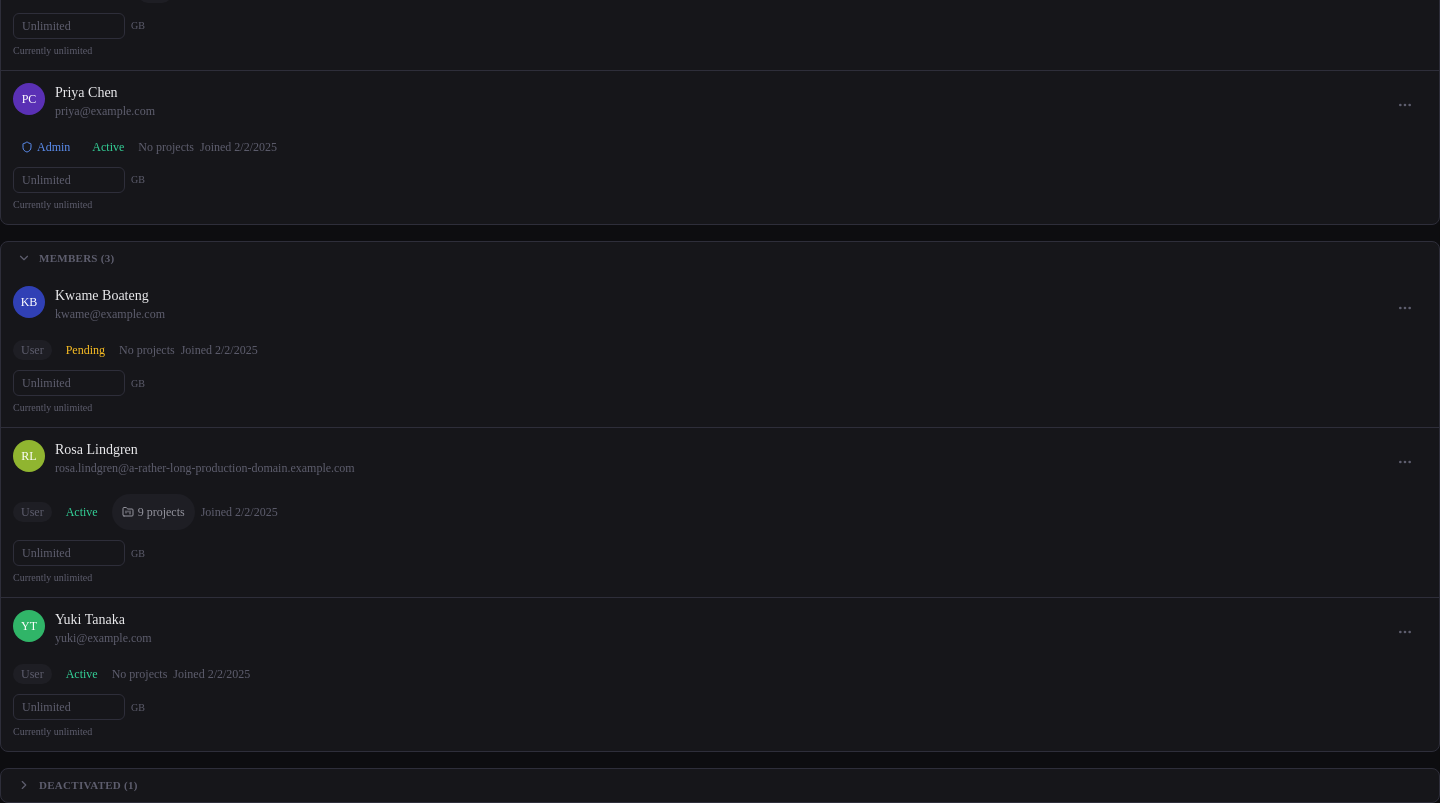
Test: every action the table row had is reachable from the card › loads the owned-project handoff when the CARD opens the dialog
(page scrolled)
Expected: the text "Rosa Lindgren" is shown, 55,442 -> 138,457
Click the button "Deactivated (1)" at (80, 785), box 17,777 -> 1423,794
(page scrolled)
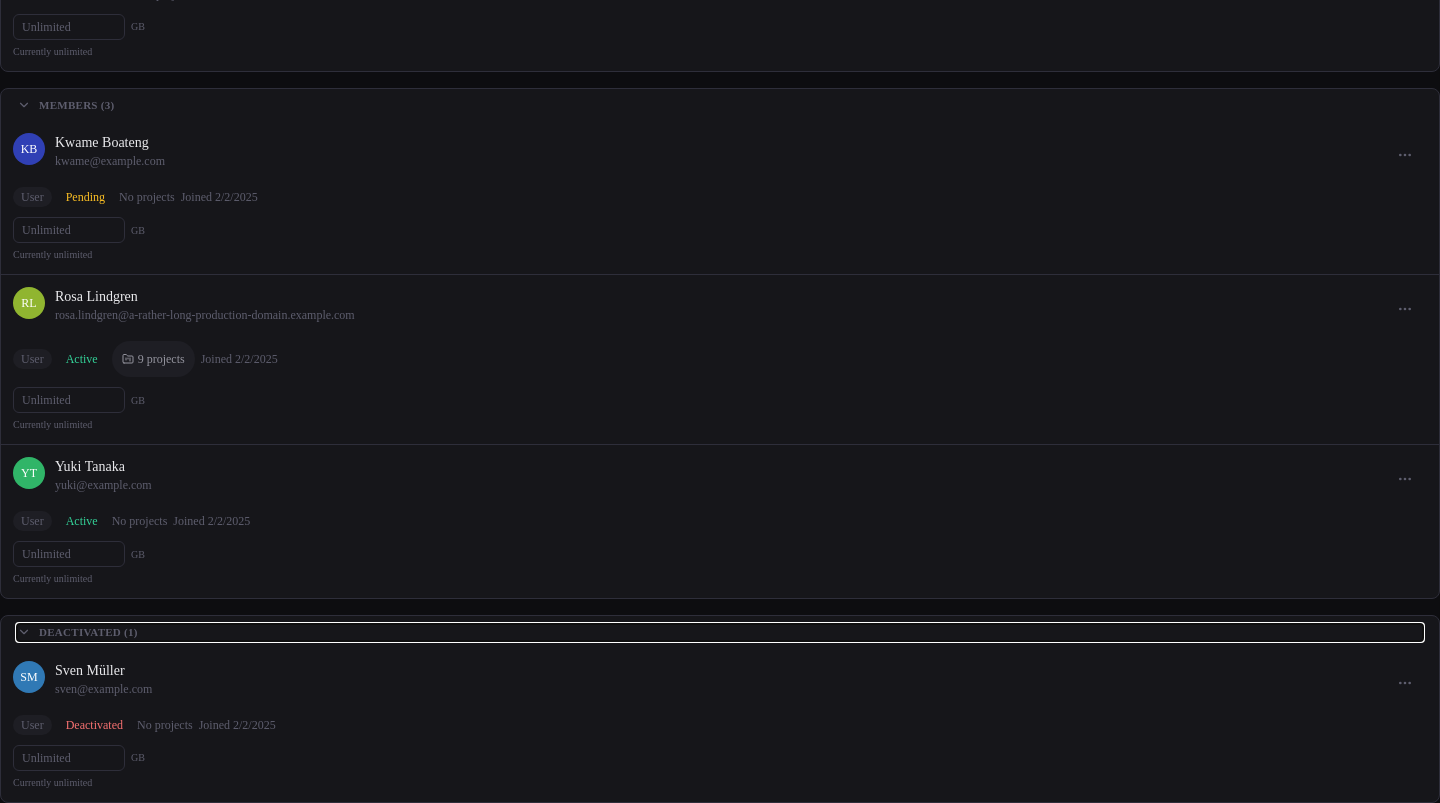
Now the text "Sven Müller" is shown, box 55,662 -> 125,678
Click the 4th button with test id "user-card-menu" at (1405, 682), box 1383,660 -> 1427,704
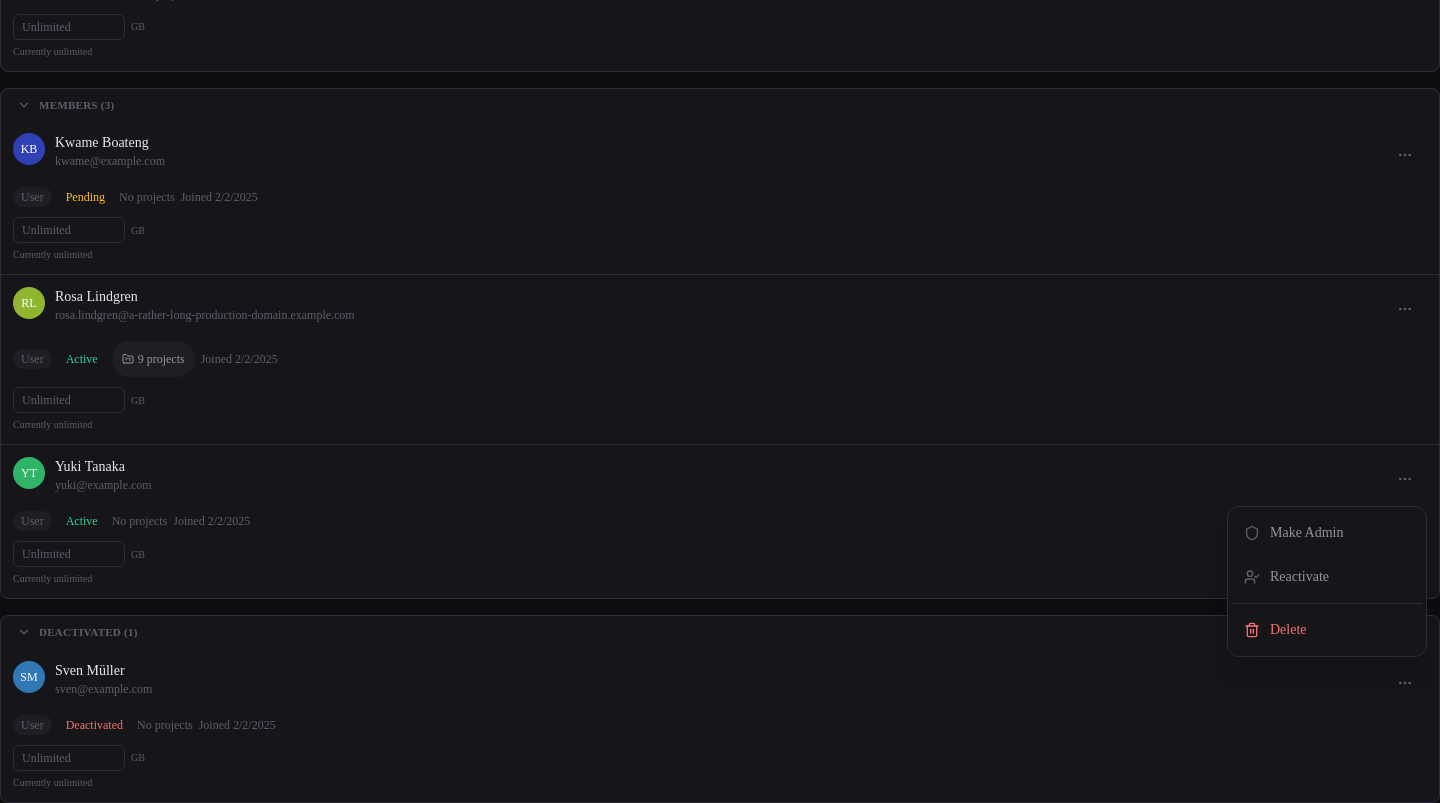
Click the menu item "Delete" at (1275, 630), box 1244,622 -> 1306,638
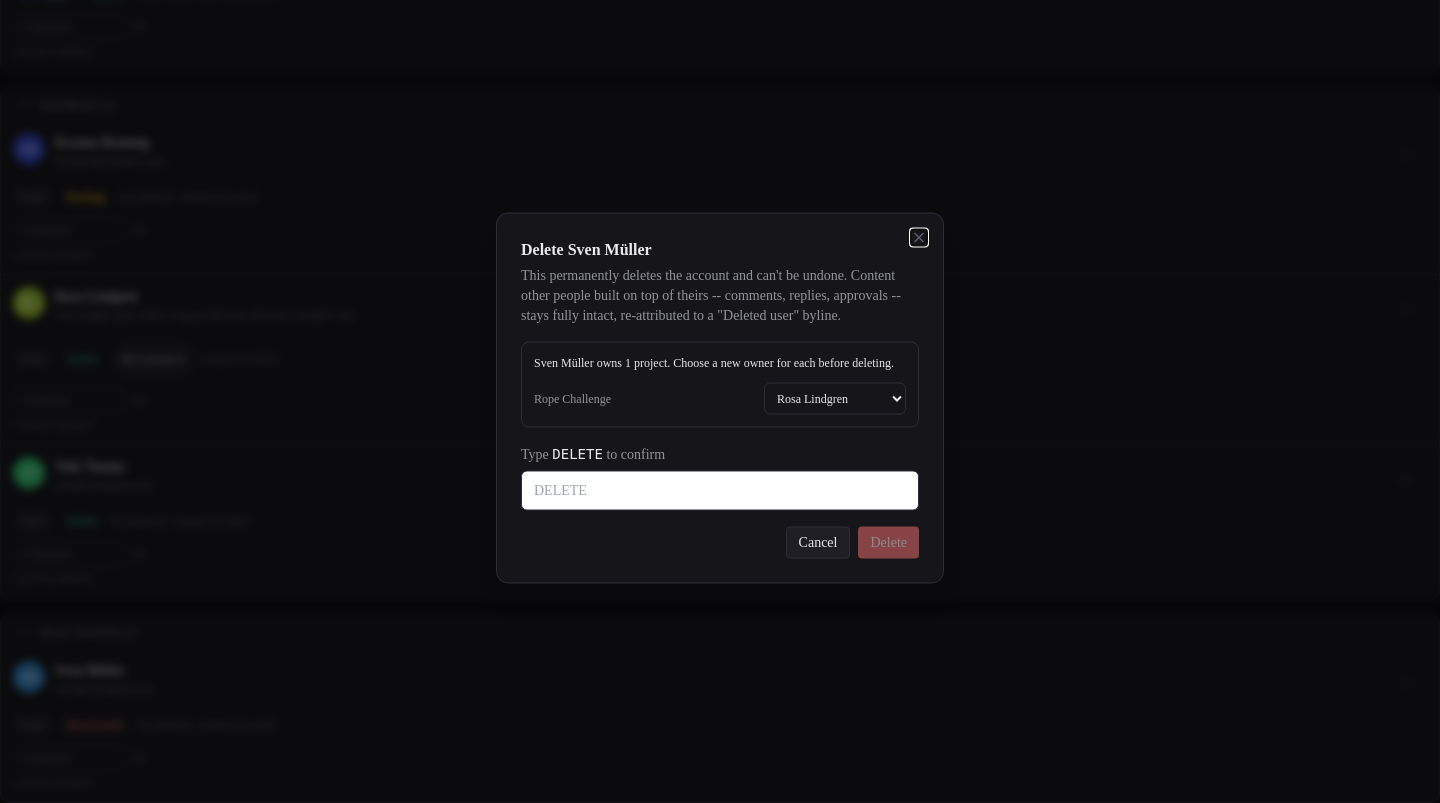
Now the text "owns 1 project" is shown, box 534,354 -> 906,370
Now the button "Delete" is disabled, box 858,526 -> 919,558
